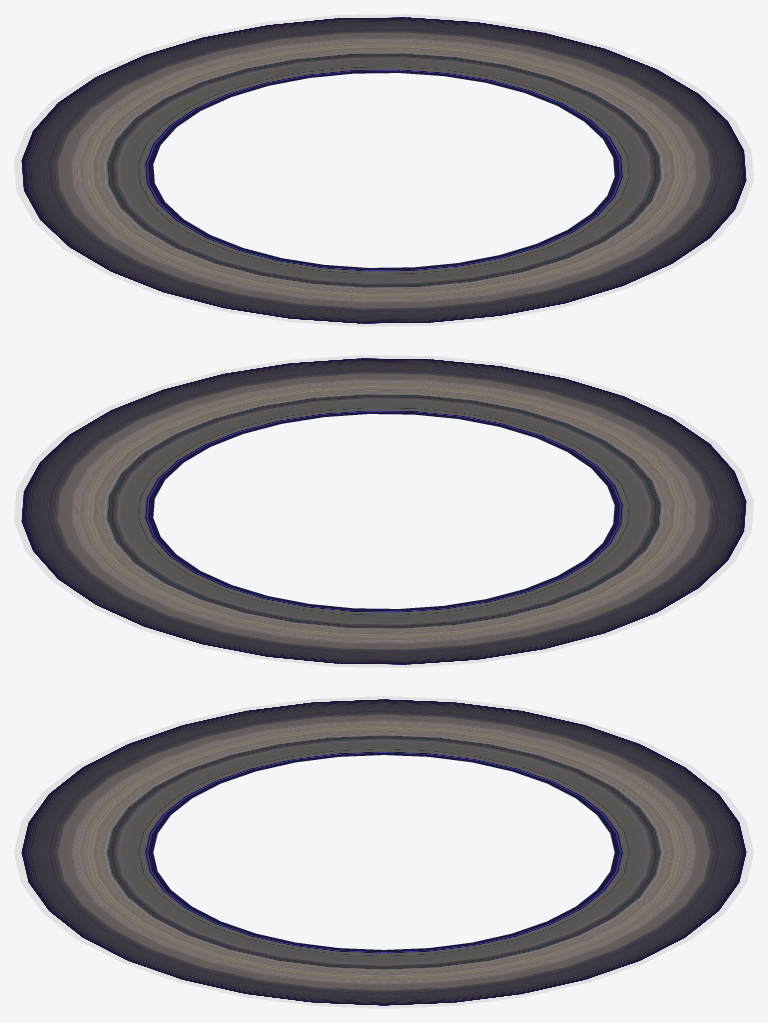
File: SaturnRing.obj
The picture shows the model from 3 angles, top to bottom: view 1: azimuth 30°, elevation 25°; view 2: azimuth 150°, elevation 25°; view 3: azimuth 270°, elevation 25°; orthographic projection.
Visible parts, largest first — view 1: Circle_Circle.001; view 2: Circle_Circle.001; view 3: Circle_Circle.001.
Boxes of the visible parts, left/top/right/bottom form: Circle_Circle.001: left=14, top=14, right=753, bottom=326; Circle_Circle.001: left=14, top=355, right=753, bottom=667; Circle_Circle.001: left=14, top=696, right=753, bottom=1008.
Bounding box in the file's own units: 64 × 0 × 64.
1 material, 1 textured.
